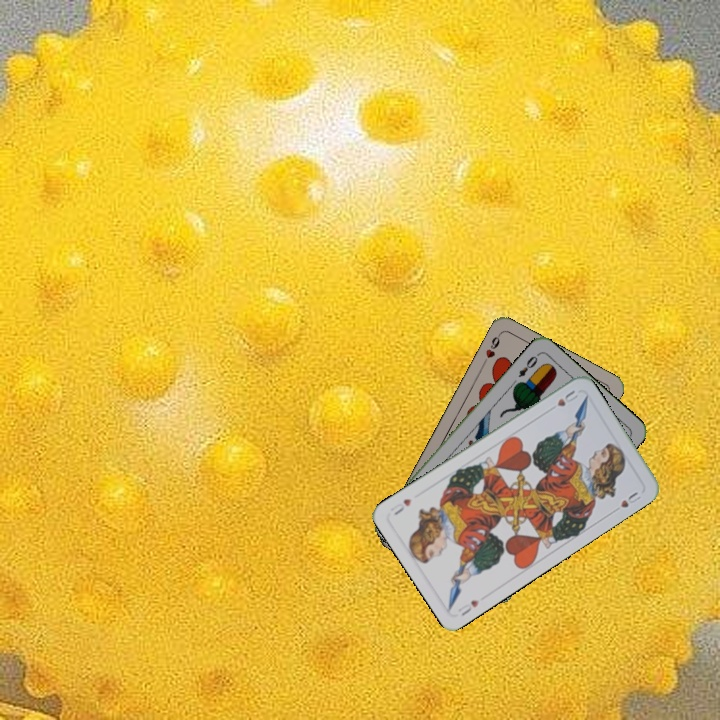EO: (514, 349, 542, 380)
H9: (479, 330, 504, 367)
HU: (553, 386, 581, 409), (454, 596, 482, 619)
